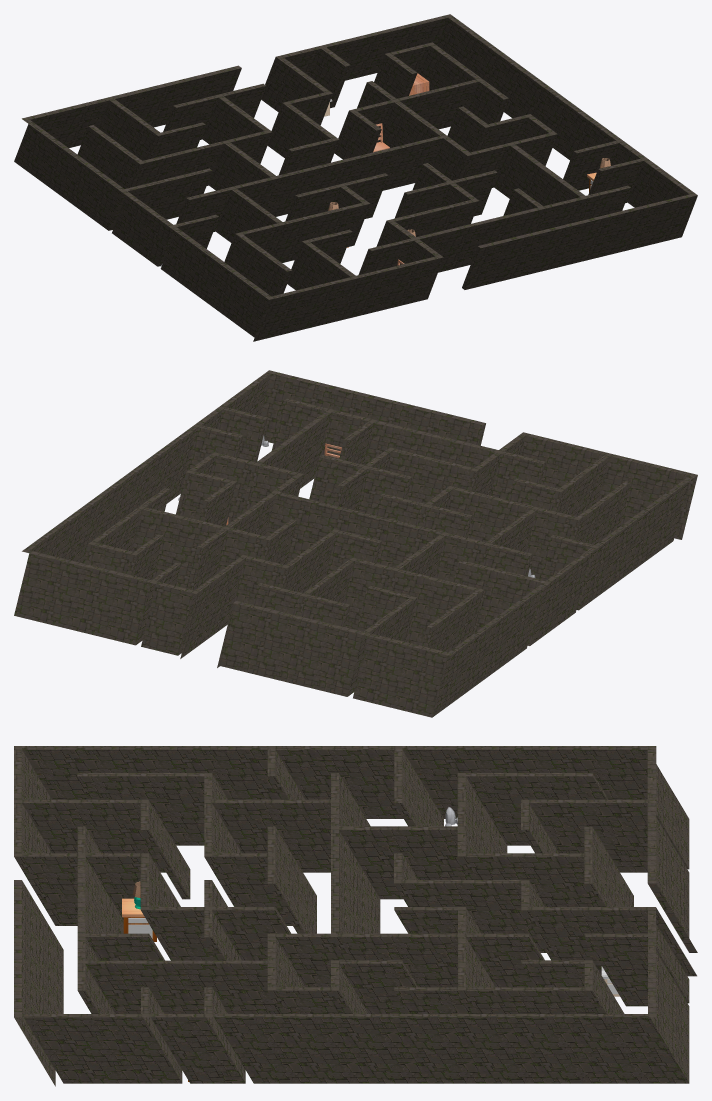
The model's file is MazeLvl1.fbx.
3 renders of one model, top to bottom at view 1: azimuth 30°, elevation 25°; view 2: azimuth 150°, elevation 25°; view 3: azimuth 270°, elevation 25°, orthographic. The views are drawn at different scales.
Visible parts, largest first — view 1: polySurface25; view 2: polySurface25; view 3: polySurface25, pasted__polySurface37.
Boxes of the visible parts, bbox=[...] form: polySurface25: bbox=[14, 14, 697, 341]; polySurface25: bbox=[14, 370, 697, 717]; polySurface25: bbox=[14, 746, 697, 1086]; pasted__polySurface37: bbox=[122, 881, 156, 941].
Size of the model in its own units: 30.82 by 3.75 by 32.83.
2 materials, 2 textured.
